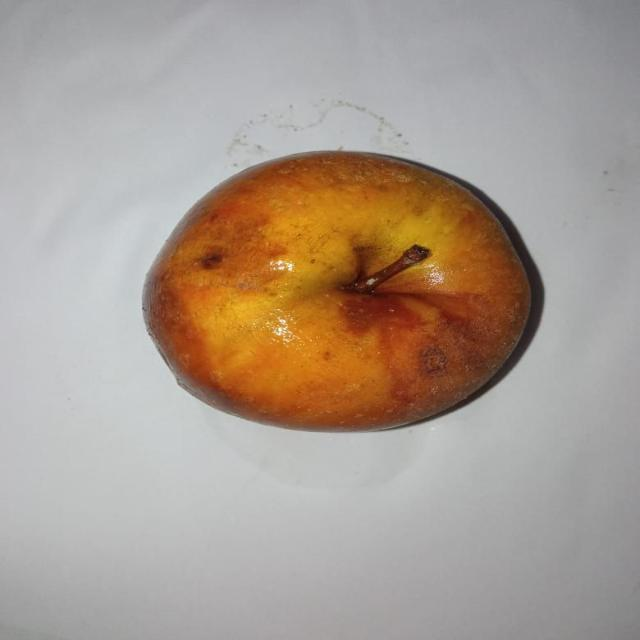rotten_apple: (140, 150, 534, 431)
